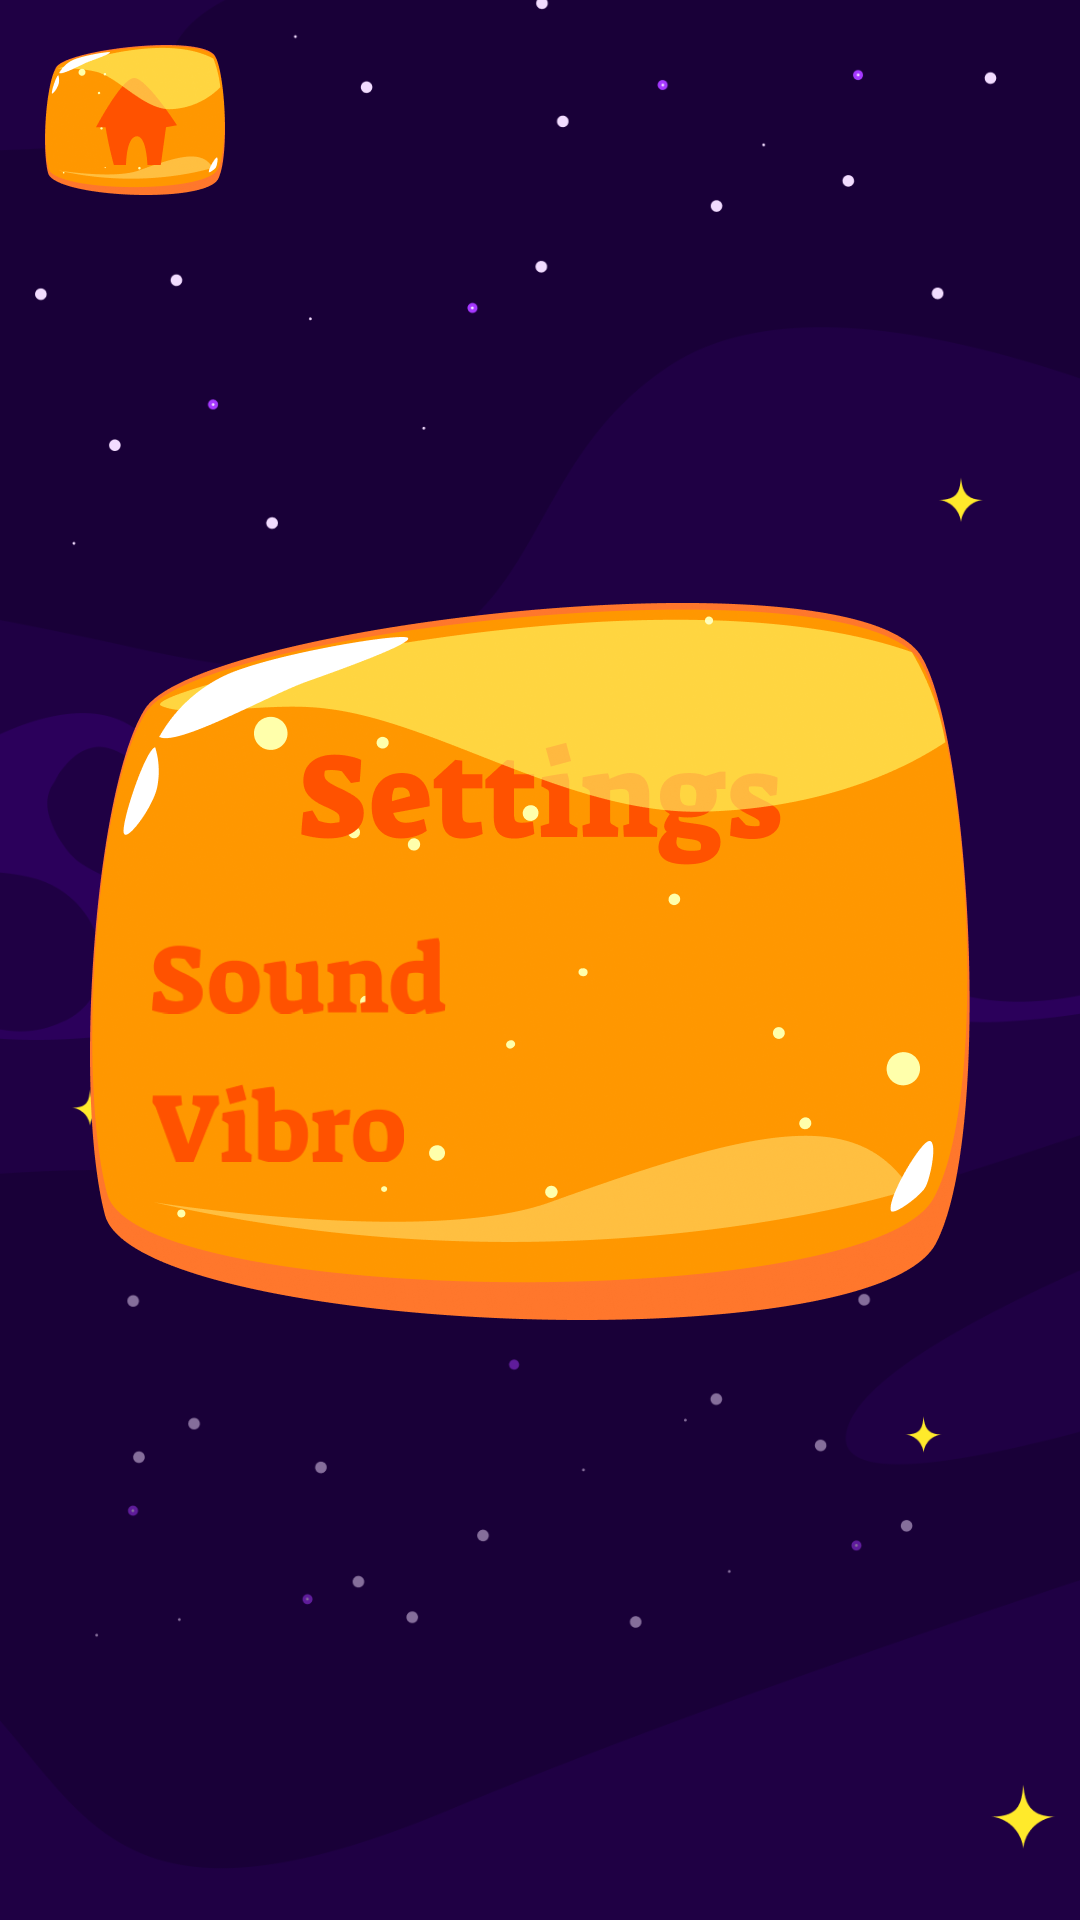

Screen size 1080×1920. Icon name, then its center in pixels as point (x, y):
home sel: point (135, 120)
